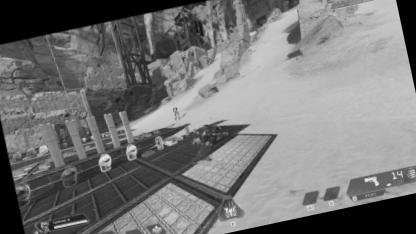Target: (185, 117, 229, 164), (170, 104, 180, 121)
